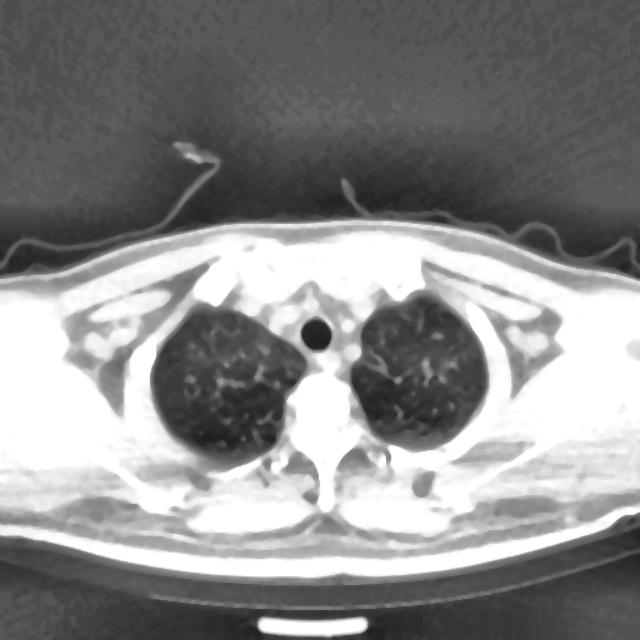covid: (148, 302, 307, 471)
